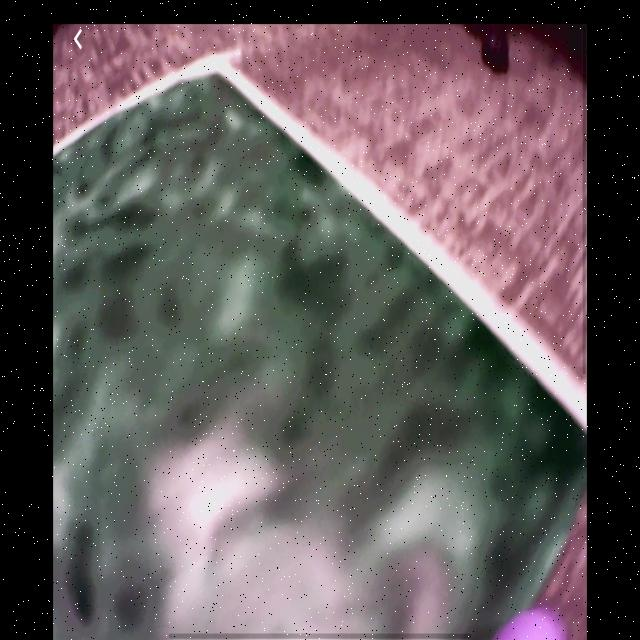ball: (498, 608, 570, 640)
